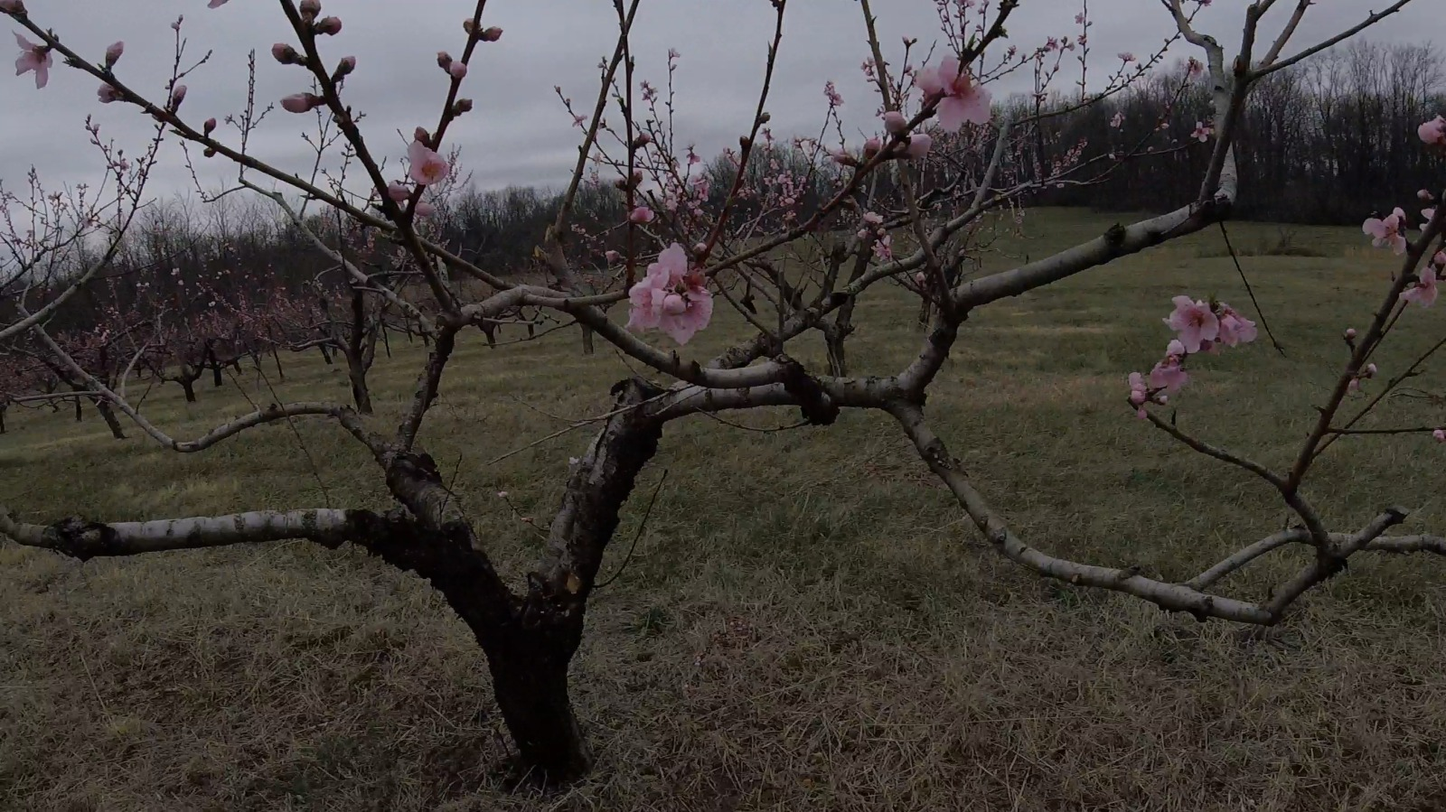flower: (1130, 296, 1258, 419), (624, 238, 714, 347), (907, 57, 994, 137), (401, 135, 462, 220), (1390, 247, 1446, 320), (13, 31, 53, 89), (1363, 208, 1407, 257), (876, 107, 914, 145), (906, 136, 935, 172), (685, 171, 715, 202), (280, 93, 322, 114), (1191, 116, 1220, 143), (1418, 116, 1445, 145), (440, 57, 468, 84), (386, 182, 413, 208), (660, 183, 681, 211), (629, 207, 655, 223), (98, 82, 115, 104), (107, 41, 127, 59), (687, 145, 701, 166), (0, 0, 23, 12), (208, 0, 230, 9), (1422, 209, 1436, 222), (414, 127, 428, 139)
